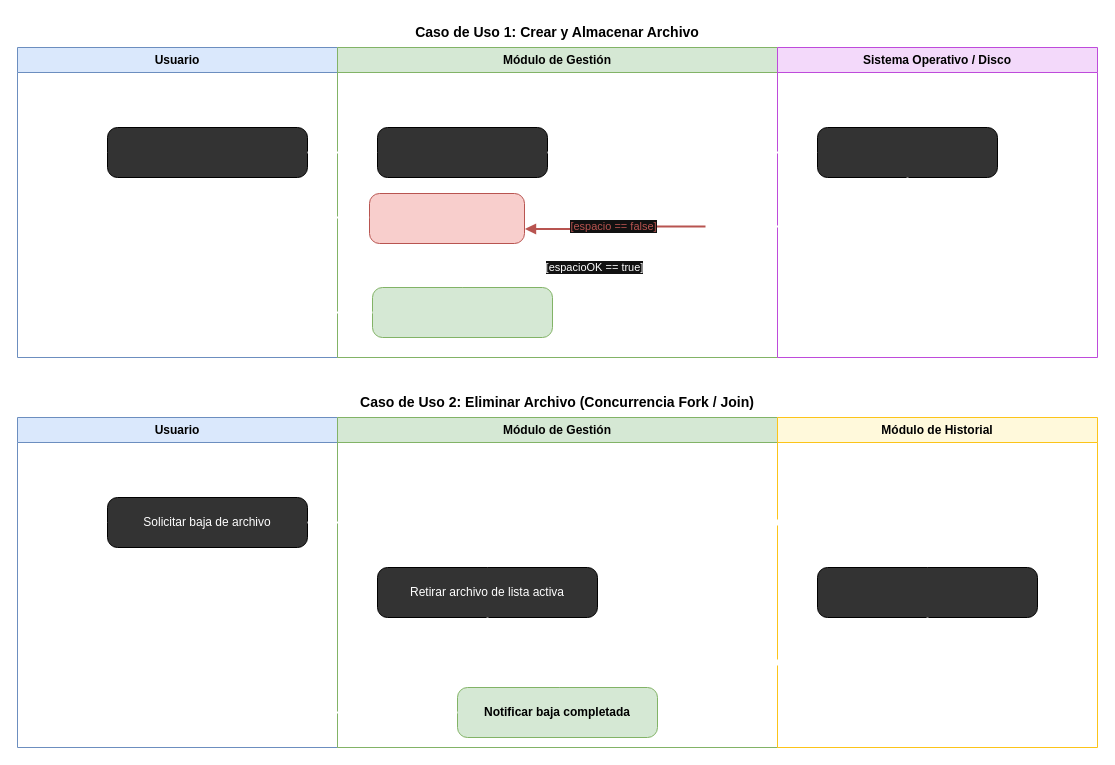
Image size: 1115x765. Some labels were removed from this diagram. The shapes that lost their labels are listed below. From the top down, each one's centre as x and y in pixels, then its label:
At [207,152]: "Solicitar creación de archivo (nombre, tipo, datos)".
At [462,152]: "Consultar espacio libre".
At [907,152]: "Verificar espacio en disco".
At [446,218]: "Desplegar aviso: Sin espacio".
At [462,312]: "Clasificar y guardar archivo".
At [927,592]: "Crear registro de baja con timestamp".
